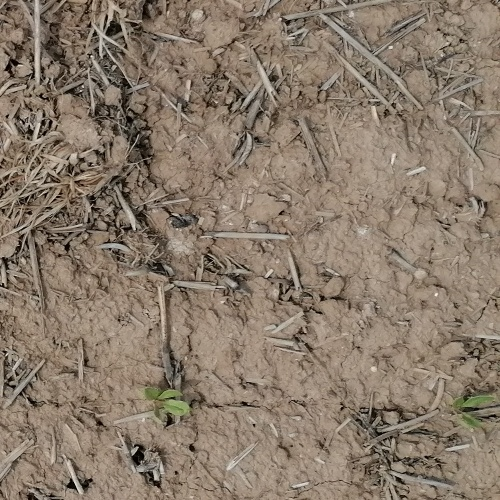beet: (454, 392, 500, 435), (144, 387, 188, 424)
